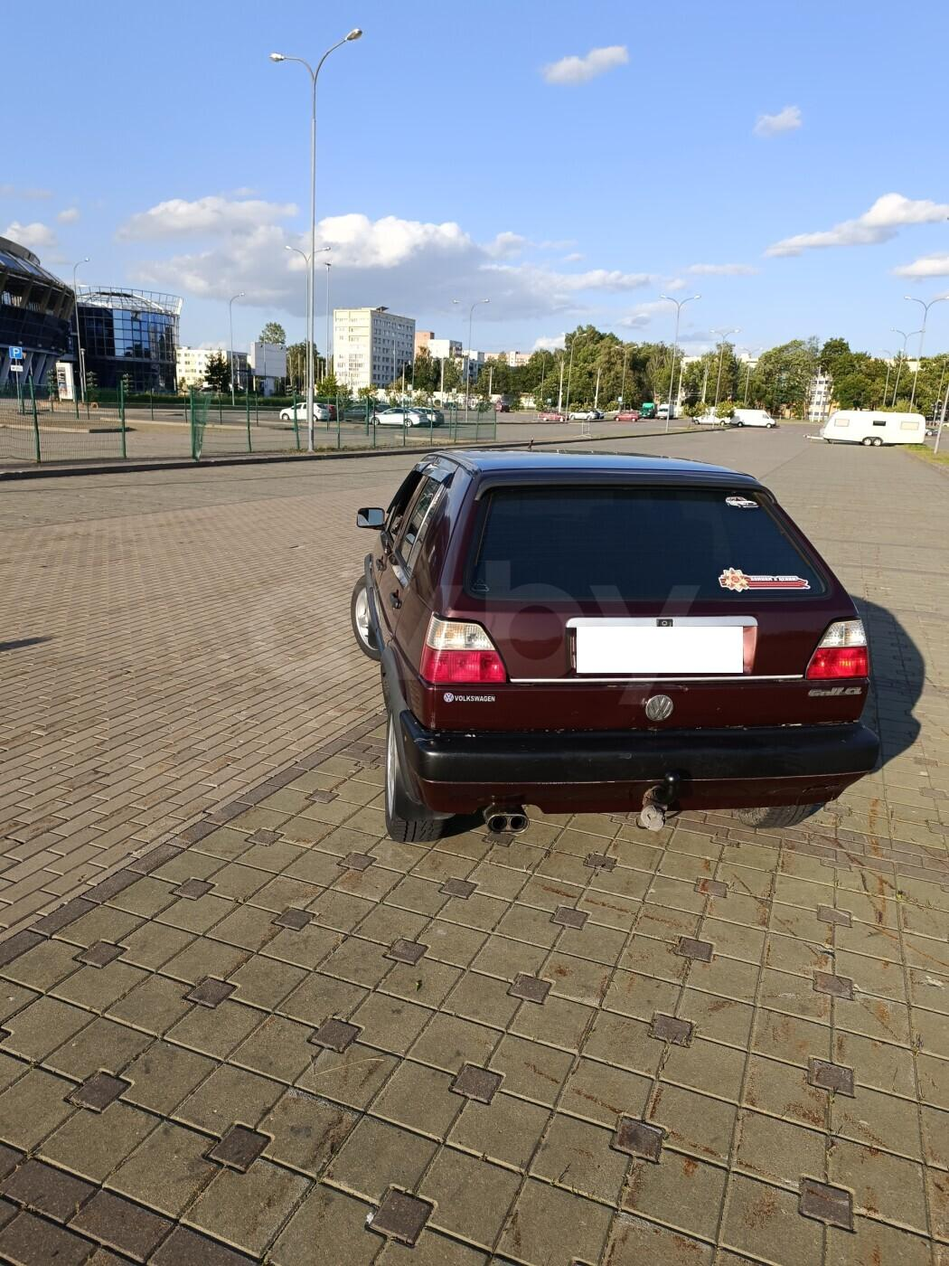Golf_1983-1992: (349, 452, 889, 852)
